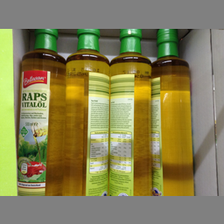oil: (15, 29, 65, 194), (63, 30, 110, 196), (150, 29, 196, 196), (109, 30, 152, 196)
